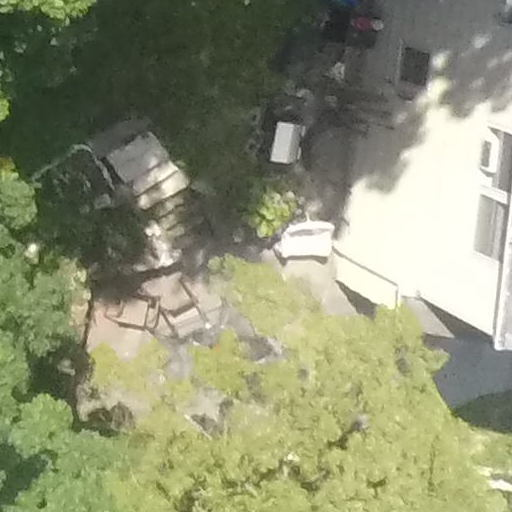container: (372, 17, 385, 32)
